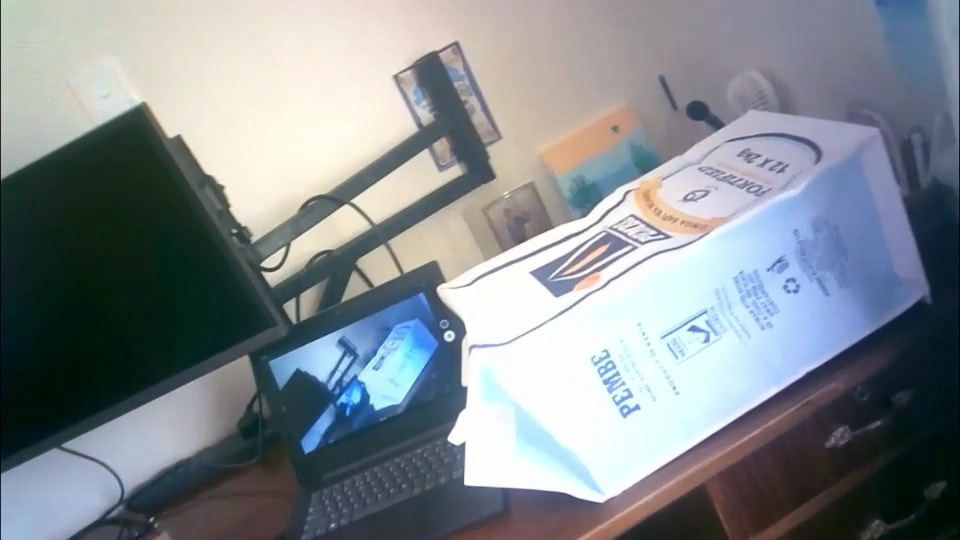wheat_flour_blue_label: (434, 109, 926, 494)
